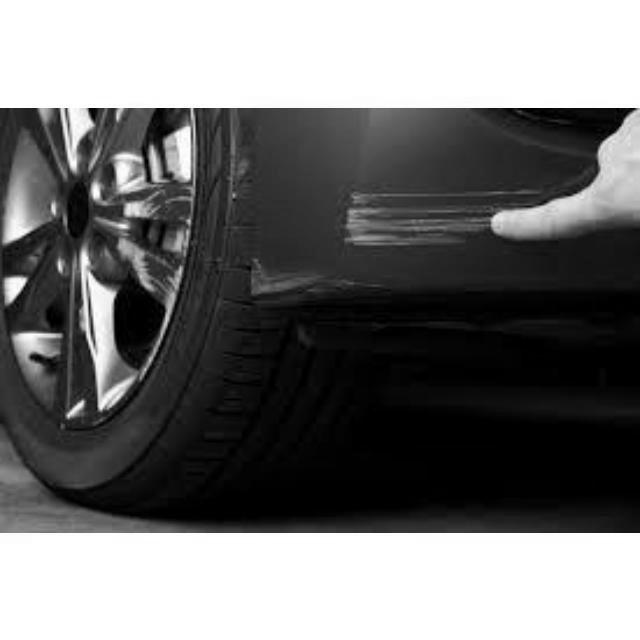front-bumper-dent: (156, 108, 600, 357)
